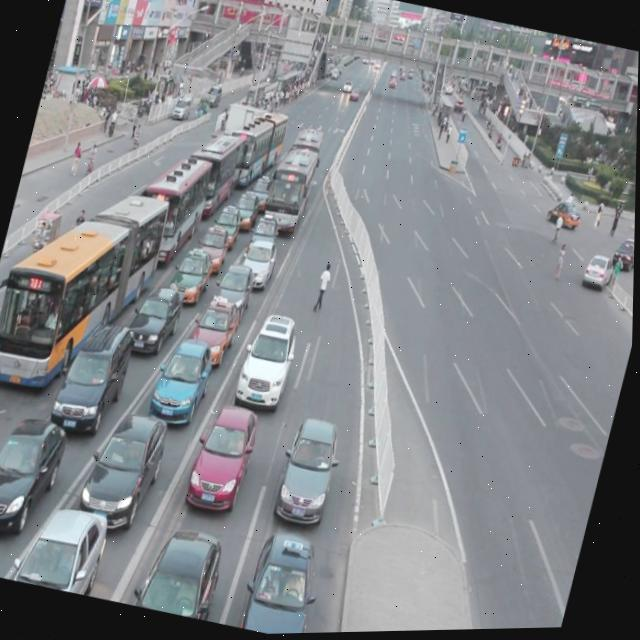bus: (221, 98, 274, 153)
car: (76, 401, 174, 535), (49, 312, 140, 440), (12, 495, 116, 599), (239, 526, 330, 636), (0, 405, 73, 541), (137, 519, 231, 623), (186, 398, 264, 517), (273, 415, 350, 530), (234, 307, 304, 413), (147, 330, 220, 427), (125, 279, 188, 359), (185, 288, 246, 369), (167, 243, 219, 308), (210, 259, 260, 323), (239, 236, 281, 290), (193, 222, 234, 274), (209, 201, 245, 251), (247, 211, 282, 256), (581, 252, 617, 292), (230, 187, 262, 231), (544, 198, 582, 232), (247, 171, 277, 214), (608, 236, 636, 275)
van: (0, 164, 173, 411), (128, 149, 217, 269), (178, 129, 250, 223), (219, 105, 292, 195), (259, 142, 321, 239), (284, 125, 327, 184)
